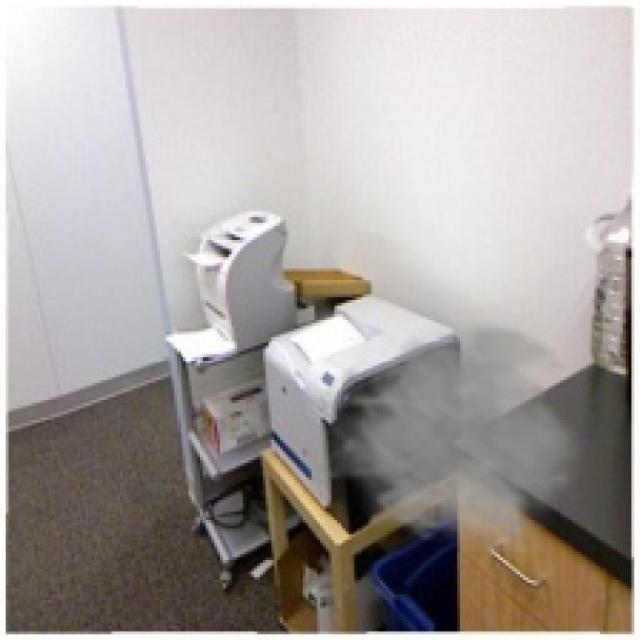smoke: (314, 306, 589, 551)
